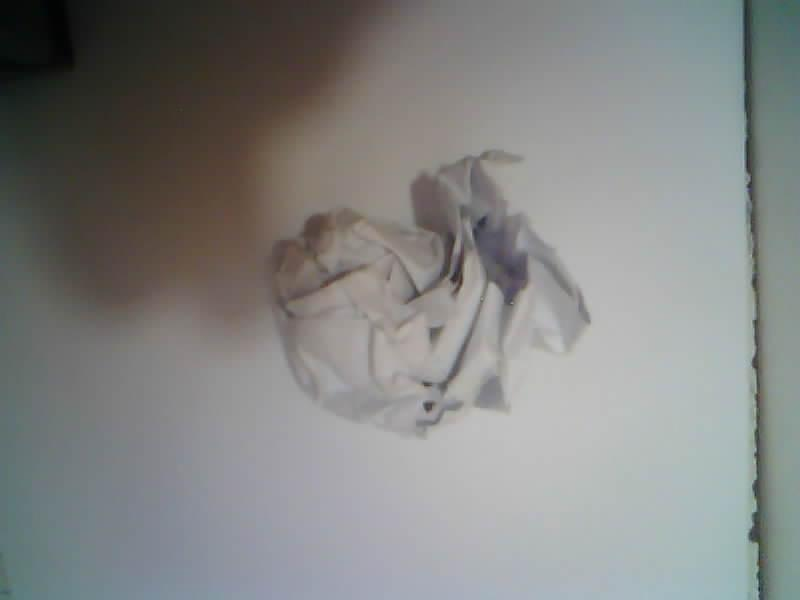biodegradable: (274, 152, 588, 436)
